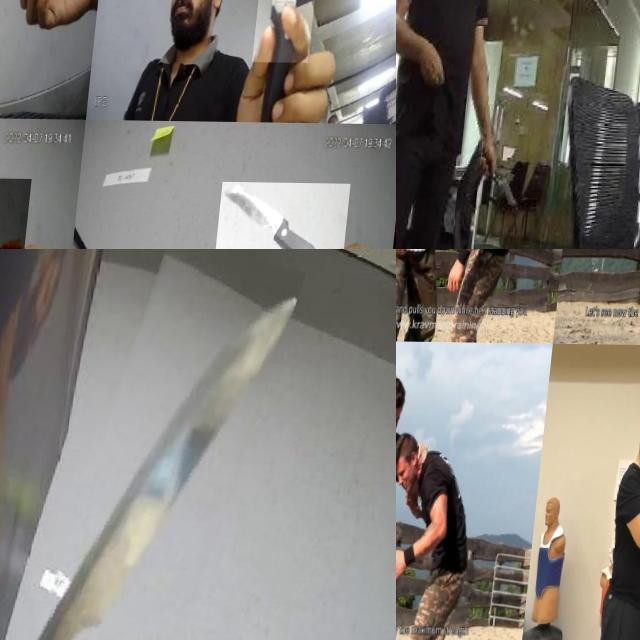-: (48, 249, 284, 640), (257, 0, 335, 130), (221, 180, 359, 249), (0, 177, 70, 249), (0, 0, 62, 59), (506, 172, 534, 212), (396, 535, 417, 571), (396, 249, 433, 263)
